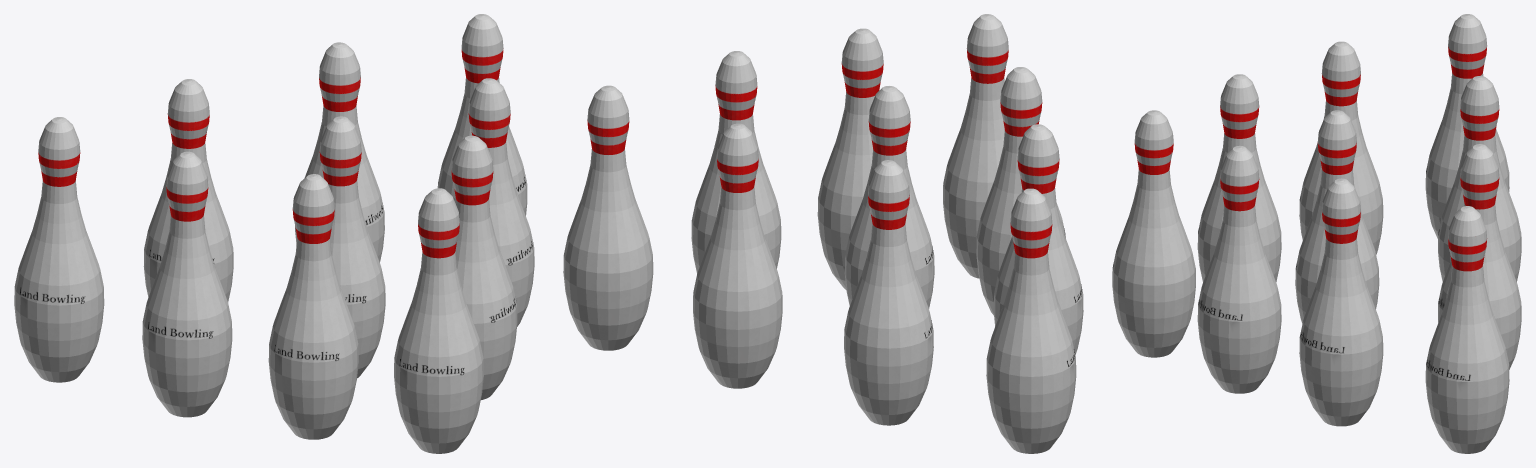
The model's file is pins.fbx.
3 renders of one model, left to right at view 1: azimuth 30°, elevation 25°; view 2: azimuth 150°, elevation 25°; view 3: azimuth 270°, elevation 25°, orthographic. The views are drawn at different scales.
Parts seen in each view (by area): view 1: pin:Layer5, pin:Layer4, pin:Layer6, pin:Layer1, pin:Layer7, pin:Layer2, pin:Layer8, pin:Layer3, pin:Layer10, pin:Layer9; view 2: pin:Layer4, pin:Layer9, pin:Layer3, pin:Layer10, pin:Layer1, pin:Layer7, pin:Layer2, pin:Layer6, pin:Layer8, pin:Layer5; view 3: pin:Layer8, pin:Layer7, pin:Layer9, pin:Layer1, pin:Layer6, pin:Layer4, pin:Layer10, pin:Layer5, pin:Layer2, pin:Layer3.
Boxes of the visible parts, x1,y1,x2,y2 form: pin:Layer5: [142, 151, 232, 417]; pin:Layer4: [14, 117, 104, 382]; pin:Layer6: [268, 174, 358, 439]; pin:Layer1: [394, 188, 483, 453]; pin:Layer7: [451, 135, 517, 399]; pin:Layer2: [319, 116, 385, 378]; pin:Layer8: [468, 78, 534, 326]; pin:Layer3: [143, 79, 233, 302]; pin:Layer10: [295, 42, 384, 262]; pin:Layer9: [437, 14, 527, 215]; pin:Layer4: [986, 188, 1076, 453]; pin:Layer9: [563, 85, 653, 350]; pin:Layer3: [844, 160, 933, 425]; pin:Layer10: [693, 123, 782, 388]; pin:Layer1: [943, 14, 1008, 278]; pin:Layer7: [817, 28, 883, 289]; pin:Layer2: [844, 86, 934, 308]; pin:Layer6: [976, 67, 1065, 315]; pin:Layer8: [691, 51, 781, 273]; pin:Layer5: [993, 124, 1083, 354]; pin:Layer8: [1299, 178, 1383, 426]; pin:Layer7: [1197, 145, 1281, 393]; pin:Layer9: [1425, 206, 1509, 453]; pin:Layer1: [1112, 110, 1195, 357]; pin:Layer6: [1197, 74, 1281, 281]; pin:Layer4: [1425, 14, 1509, 238]; pin:Layer10: [1438, 144, 1521, 369]; pin:Layer5: [1299, 41, 1383, 254]; pin:Layer2: [1295, 110, 1379, 323]; pin:Layer3: [1438, 76, 1521, 281].
Size of the model in its own units: 210 by 104 by 160.
10 materials, 10 textured.
